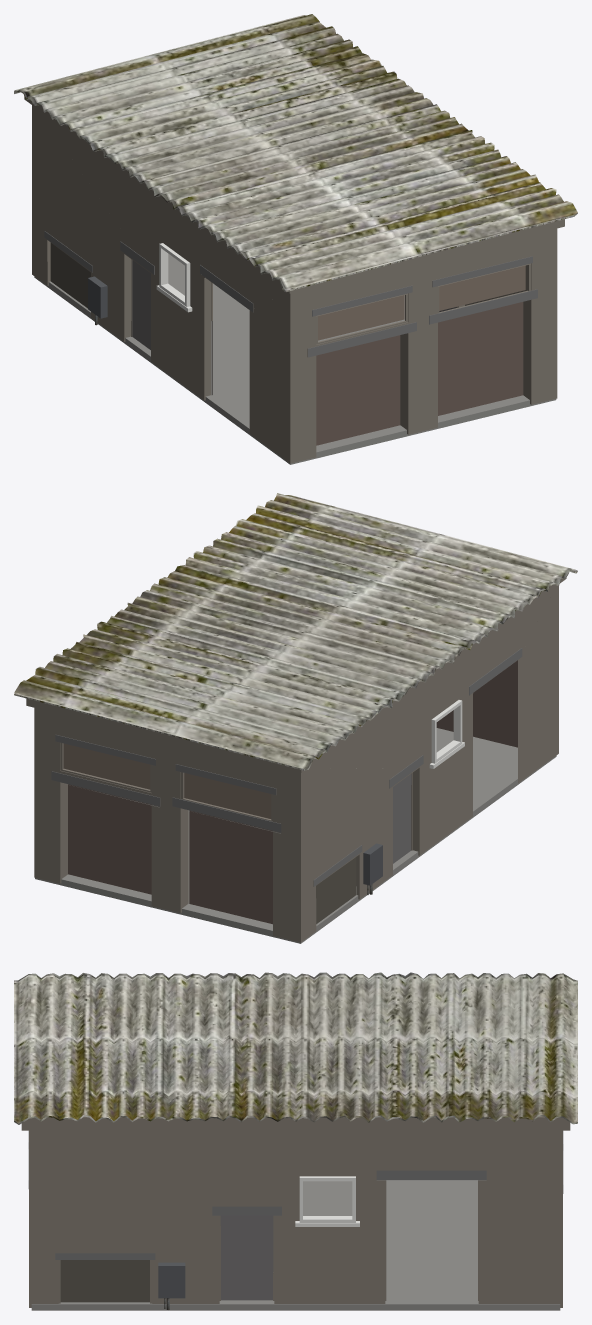
The model's file is garage.windows-v1.lod0.glb.
3 views of the same model, one above another, from view 1: azimuth 30°, elevation 25°; view 2: azimuth 150°, elevation 25°; view 3: azimuth 270°, elevation 25° (orthographic). The views are drawn at different scales.
Visible parts, largest first — view 1: Box001_Material #2100603827_0, Box001_Material #2100603824_0, Window frames; view 2: Box001_Material #2100603827_0, Box001_Material #2100603824_0, Window frames; view 3: Box001_Material #2100603827_0, Box001_Material #2100603824_0, Window frames.
Part boxes in pixels (x1,y1,x2,y2): Box001_Material #2100603827_0: (24,96,564,464); Box001_Material #2100603824_0: (14,14,577,291); Window frames: (156,243,192,312); Box001_Material #2100603827_0: (26,577,566,943); Box001_Material #2100603824_0: (14,493,577,770); Window frames: (429,700,464,768); Box001_Material #2100603827_0: (21,1116,570,1310); Box001_Material #2100603824_0: (14,972,577,1124); Window frames: (295,1176,359,1226).
Size of what is drawn, in the model's own units: 5.07 by 3.15 by 8.
Materials: 4 (2 with a texture image).
